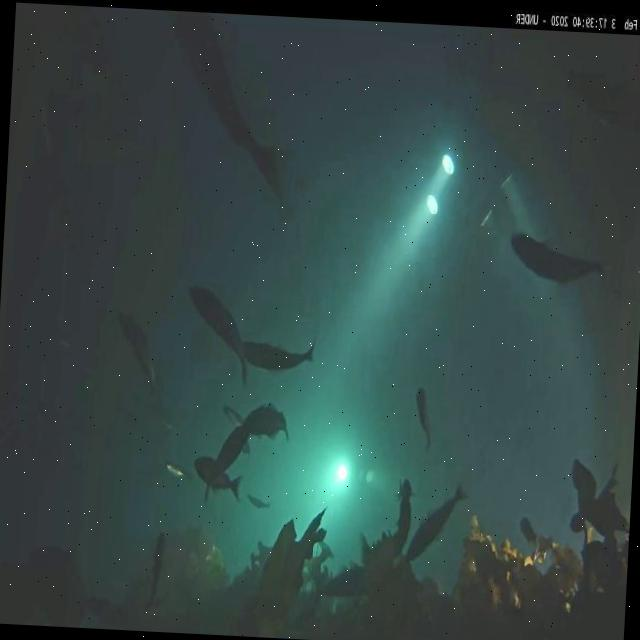fish: (170, 11, 283, 182), (111, 305, 162, 399), (405, 488, 464, 569), (190, 284, 247, 354), (508, 250, 598, 278), (242, 340, 308, 378), (388, 471, 418, 548), (212, 433, 247, 490), (194, 451, 234, 491), (244, 407, 288, 434), (417, 390, 432, 449), (148, 408, 176, 438), (162, 458, 192, 484), (219, 403, 247, 429), (151, 536, 164, 590), (243, 491, 273, 512), (518, 520, 534, 540)
